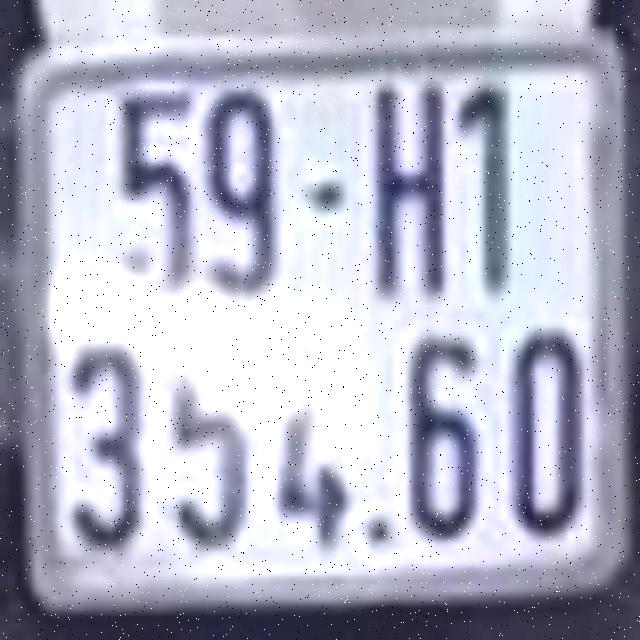0: (512, 327, 585, 536)
1: (458, 83, 518, 294)
3: (67, 343, 144, 550)
4: (276, 339, 350, 552)
5: (170, 335, 250, 548), (117, 88, 195, 296)
6: (408, 331, 482, 540)
9: (206, 86, 276, 300)
H: (372, 76, 451, 300)
